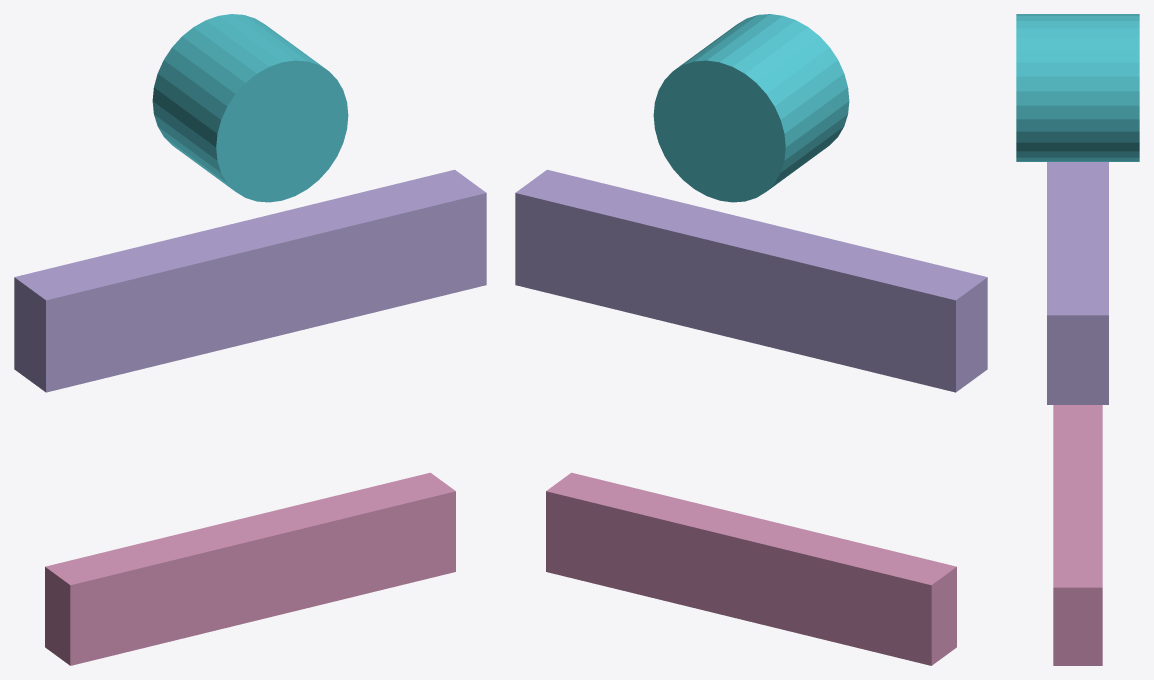
Rendered from assembly.glb.
3 renders of one model, left to right at view 1: azimuth 30°, elevation 25°; view 2: azimuth 150°, elevation 25°; view 3: azimuth 270°, elevation 25°, orthographic. The views are drawn at different scales.
Parts seen in each view (by area): view 1: world; view 2: world; view 3: world.
Boxes of the visible parts, <box> form: world: <box>14,14,486,665</box>; world: <box>515,14,987,665</box>; world: <box>1016,14,1139,665</box>.
Size of the model in its own units: 80 by 99 by 20.
